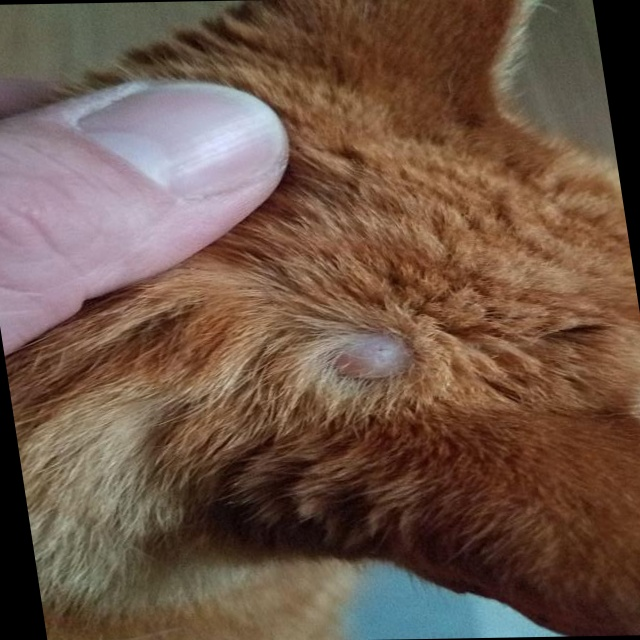lump_and_bump: (322, 328, 420, 390)
